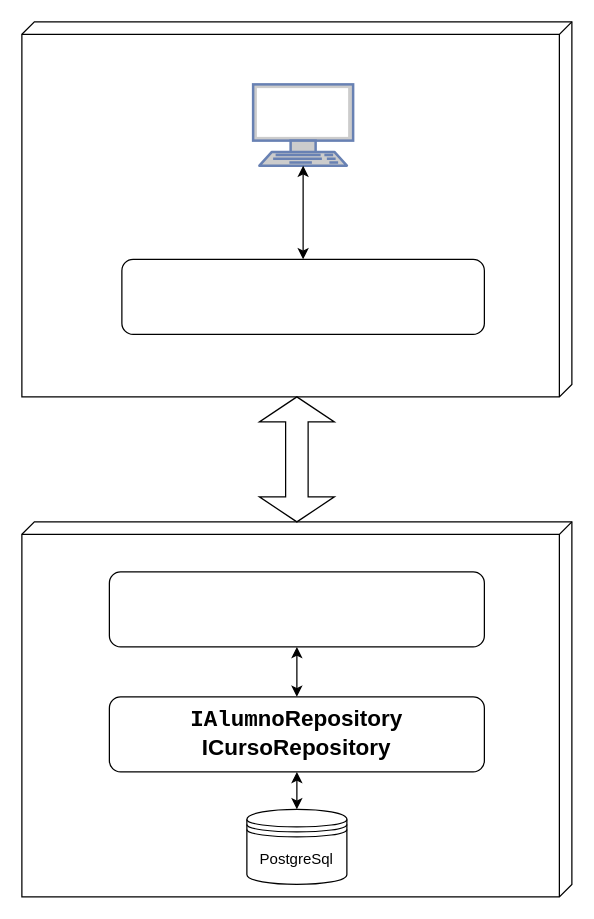
Some shapes in this 594 by 919 pixel diagram are drawn without their labels. The centre of each missing label's shape, as x and y in pixels:
CursoController: [296,609]
CursosServices: [302,296]
